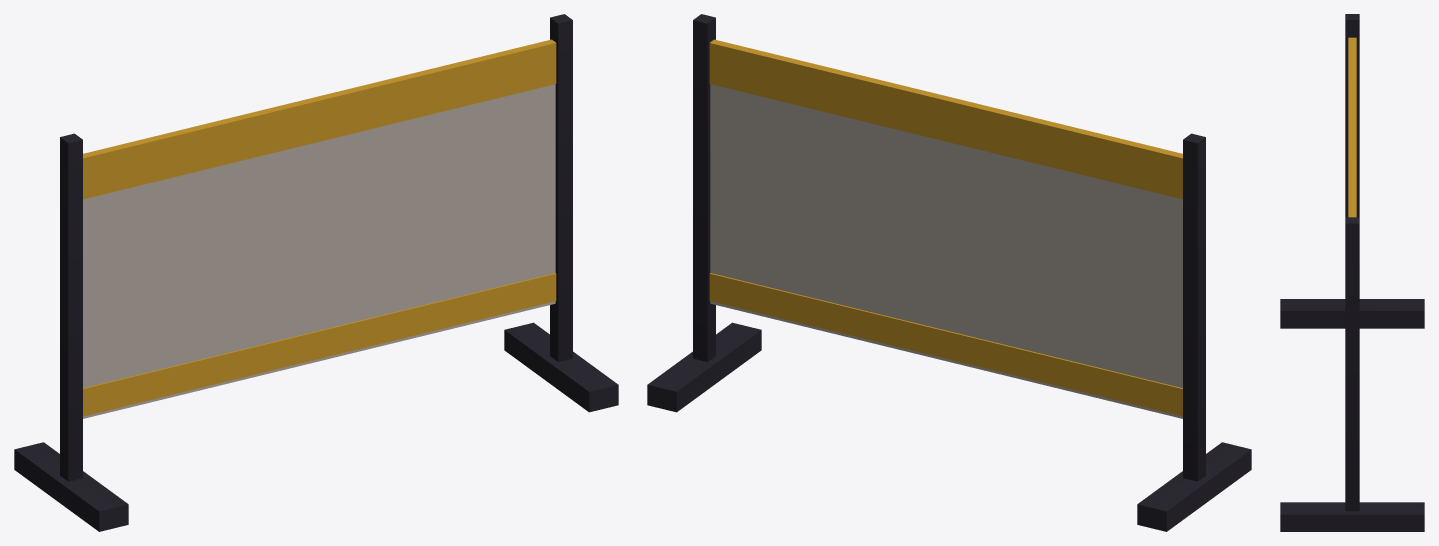
The model's file is prop.cure-quarantine-fence.lod2.glb.
The picture shows the model from 3 angles, left to right: view 1: azimuth 30°, elevation 25°; view 2: azimuth 150°, elevation 25°; view 3: azimuth 270°, elevation 25°; orthographic projection. The views are drawn at different scales.
Parts seen in each view (by area): view 1: body; view 2: body; view 3: body.
Part boxes in pixels (box(x1,y1,x2,y2)): body: box(14, 14, 618, 531); body: box(647, 14, 1251, 531); body: box(1280, 14, 1424, 531).
Size of the model in its own units: 3.18 by 2.1 by 0.9.
